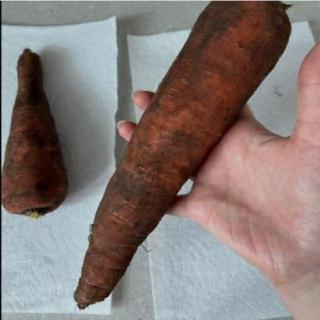carrot: (70, 0, 291, 308), (0, 46, 70, 218)
